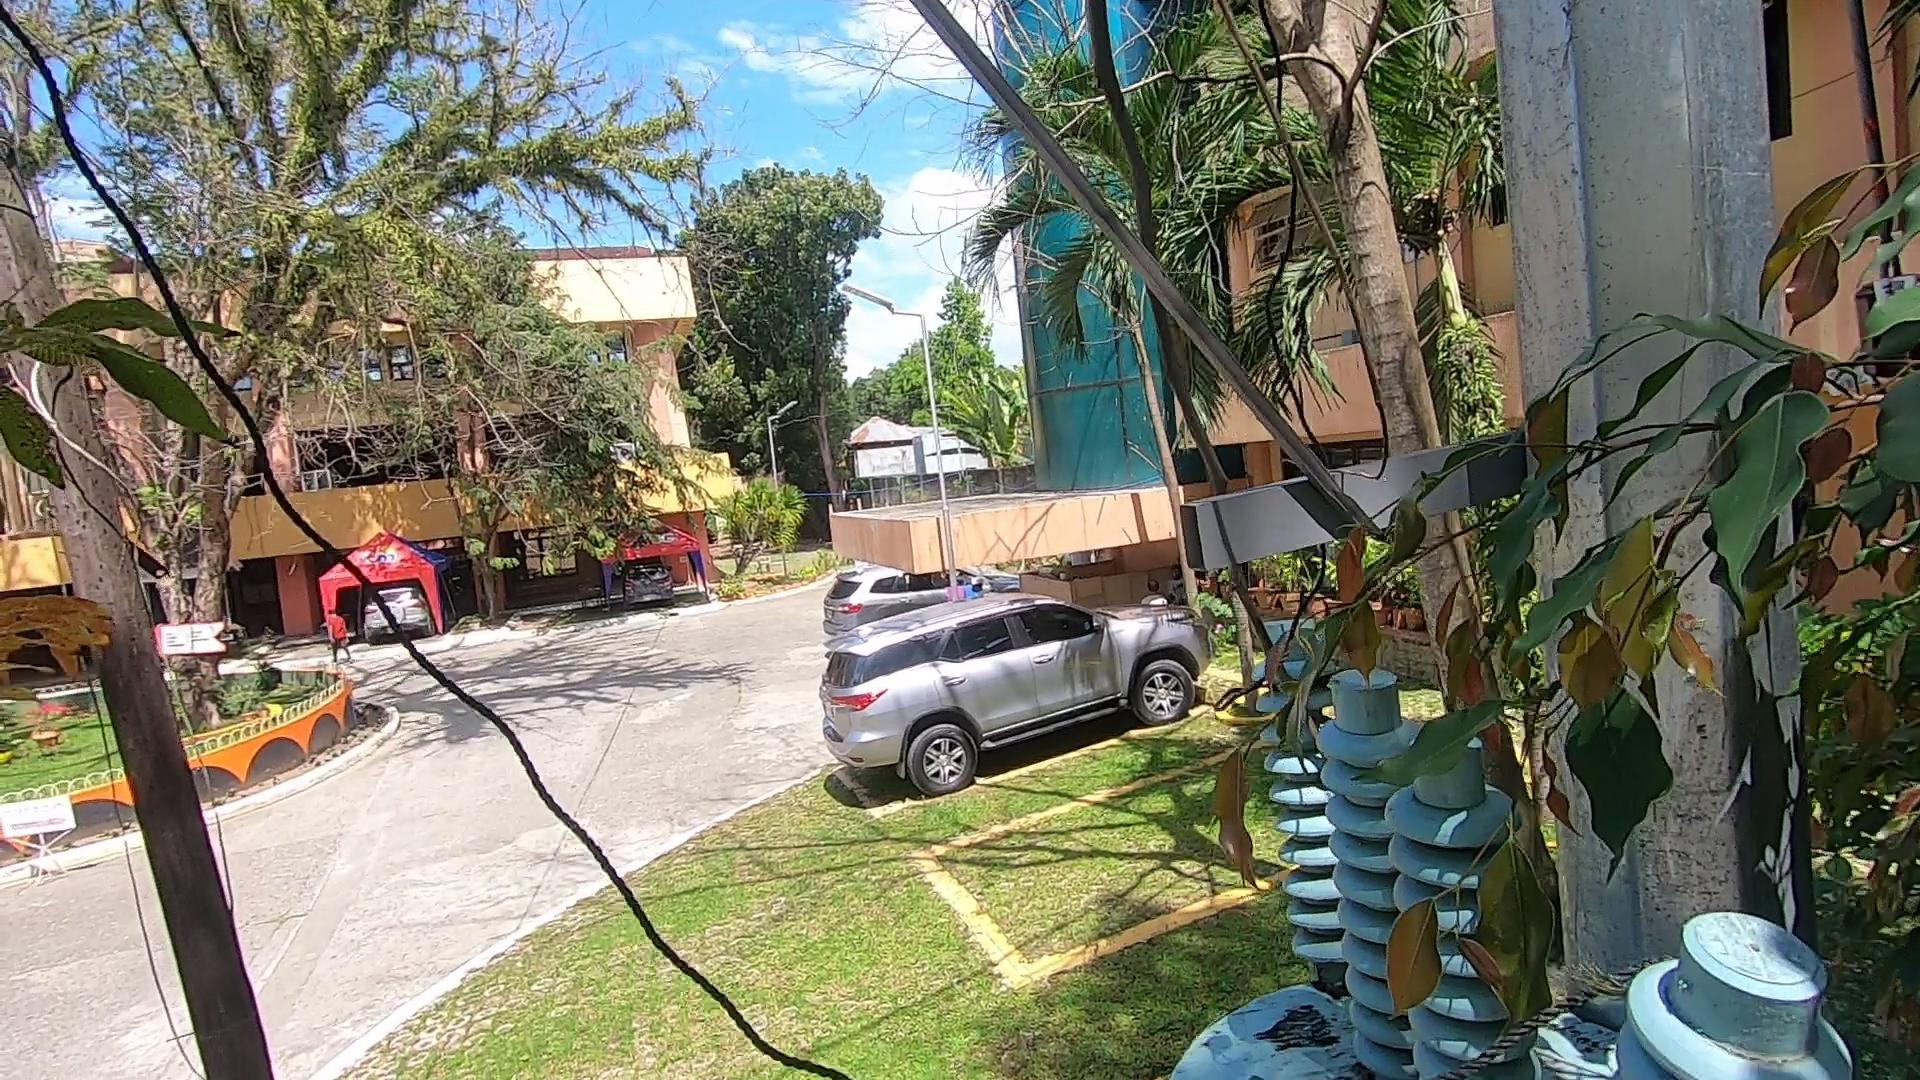tree branch: (1188, 446, 1672, 1054), (1067, 7, 1302, 498)
